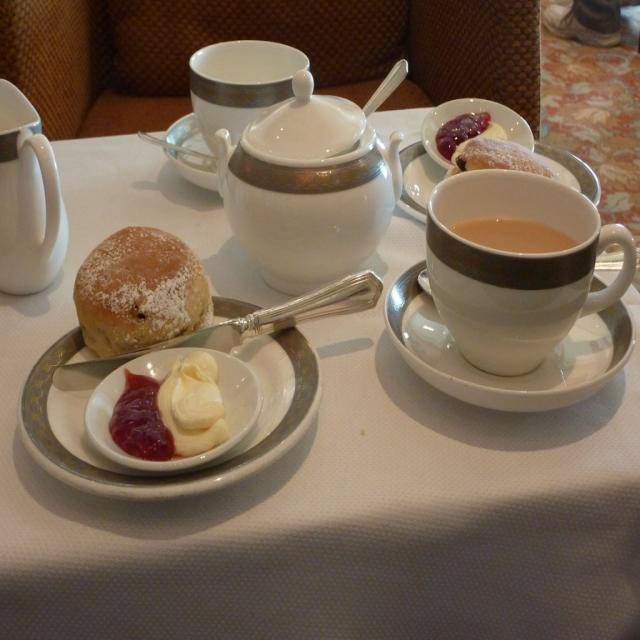Coffee: (421, 165, 630, 377)
Tea: (448, 214, 576, 253)
